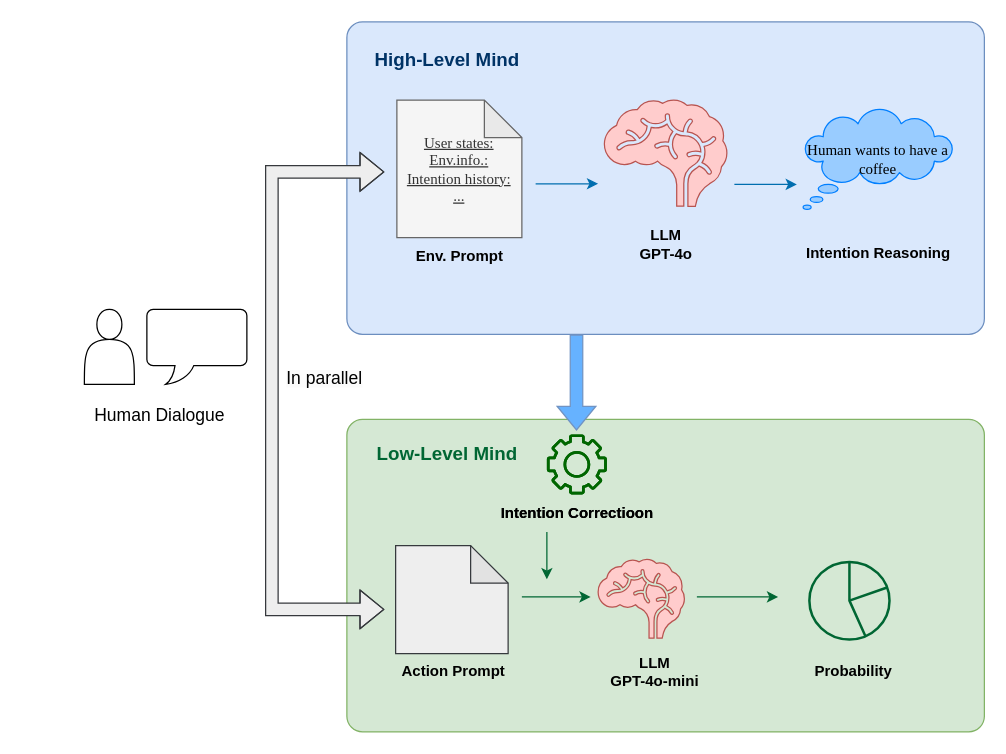
The diagram is 1006 pixels wide and 754 high, and some of its shapes have lost their labels. Here are the shapes that lost their labels. From the top down, the centre of each, then its label:
(196,346): I'm sleepy
(451,599): Object List: Action History:
